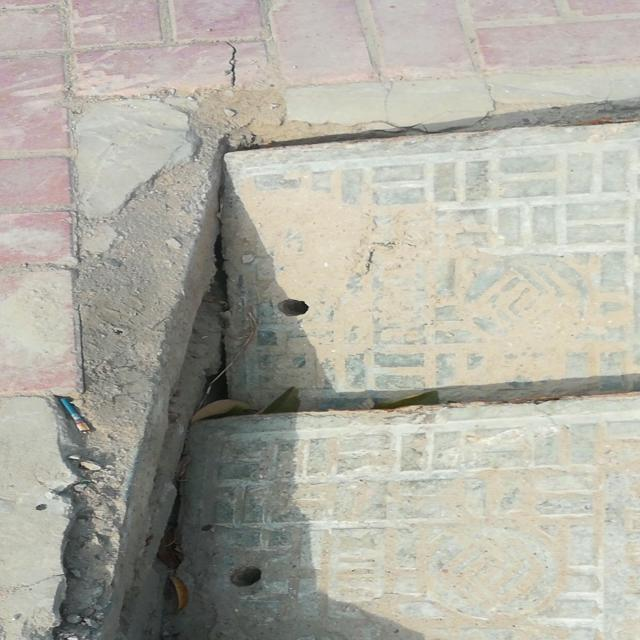uncovered: (19, 77, 640, 640)
